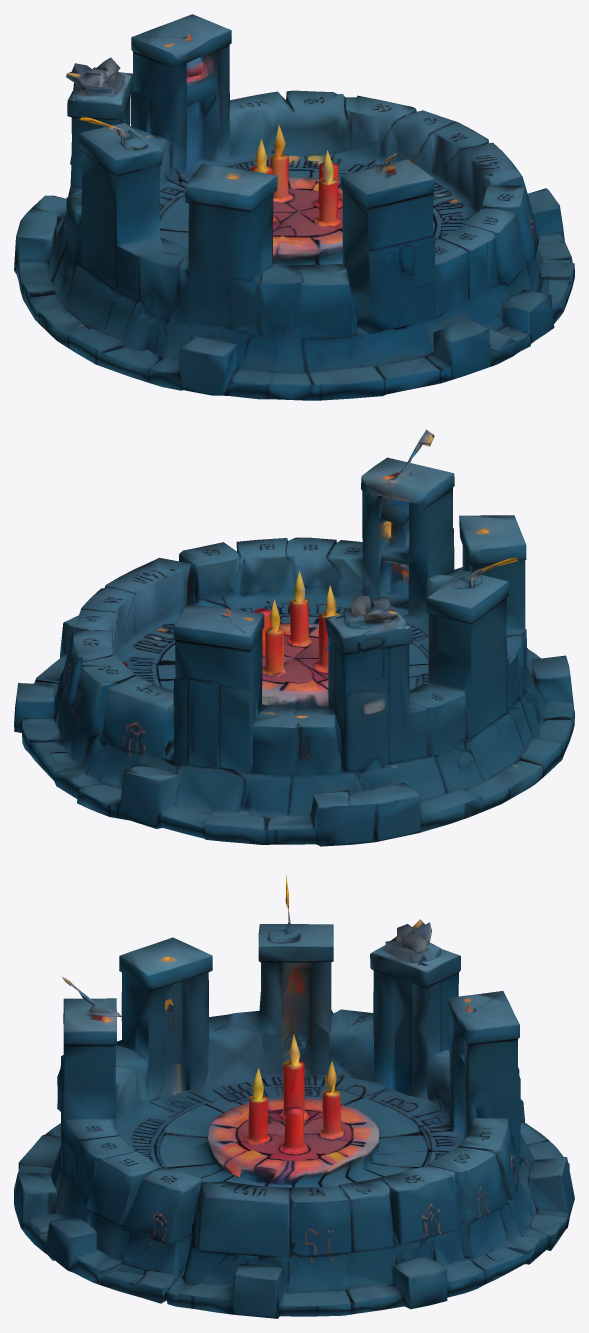
The model's file is lilin-pemanggil-arwah-lvl3.fbx.
3 views of the same model, one above another, from view 1: azimuth 30°, elevation 25°; view 2: azimuth 150°, elevation 25°; view 3: azimuth 270°, elevation 25° (orthographic).
Parts seen in each view (by area): view 1: tripo_node_01ddb35a; view 2: tripo_node_01ddb35a; view 3: tripo_node_01ddb35a.
Part boxes in pixels (x1=…): tripo_node_01ddb35a: x1=14, y1=14, x2=574, y2=400; tripo_node_01ddb35a: x1=14, y1=429, x2=574, y2=846; tripo_node_01ddb35a: x1=14, y1=875, x2=574, y2=1318.
Size of the model in its own units: 100 by 45.22 by 100.
Materials: 1 (1 with a texture image).
